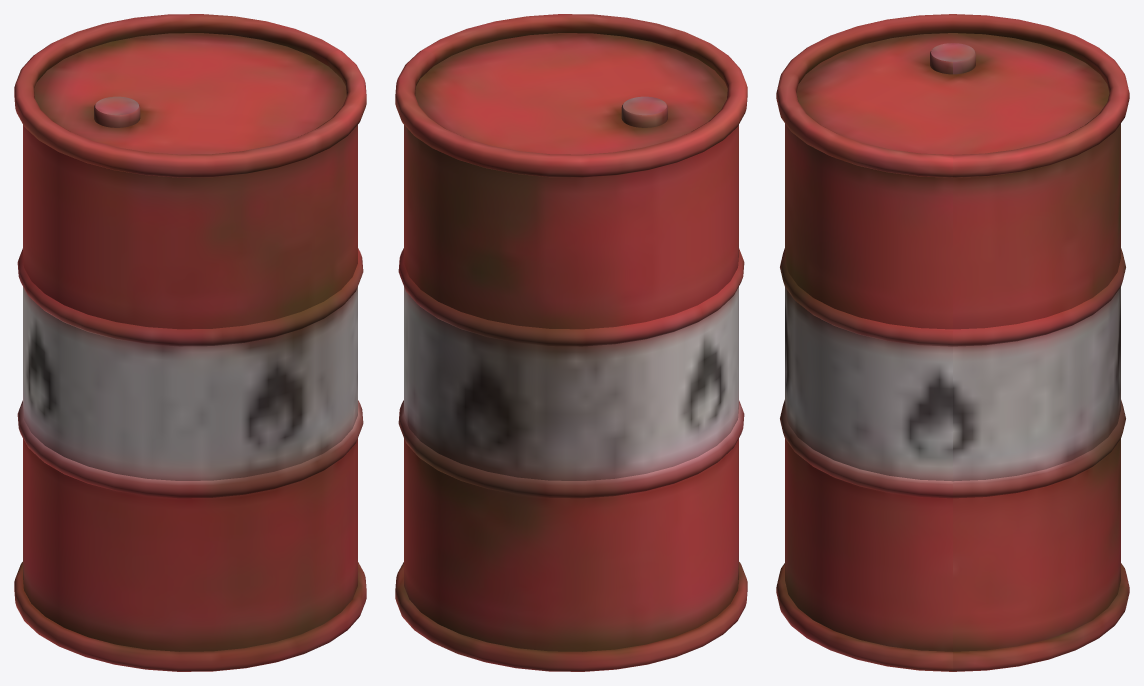
File: hazard-drum--1.gltf
3 renders of one model, left to right at view 1: azimuth 30°, elevation 25°; view 2: azimuth 150°, elevation 25°; view 3: azimuth 270°, elevation 25°, orthographic.
Parts seen in each view (by area): view 1: Cylinder.060; view 2: Cylinder.060; view 3: Cylinder.060.
Boxes of the visible parts, <box> form: Cylinder.060: <box>14,14,366,671</box>; Cylinder.060: <box>395,14,747,671</box>; Cylinder.060: <box>776,14,1129,671</box>.
Size of the model in its own units: 0.5621 by 0.9 by 0.5621.
Materials: 1 (1 with a texture image).
